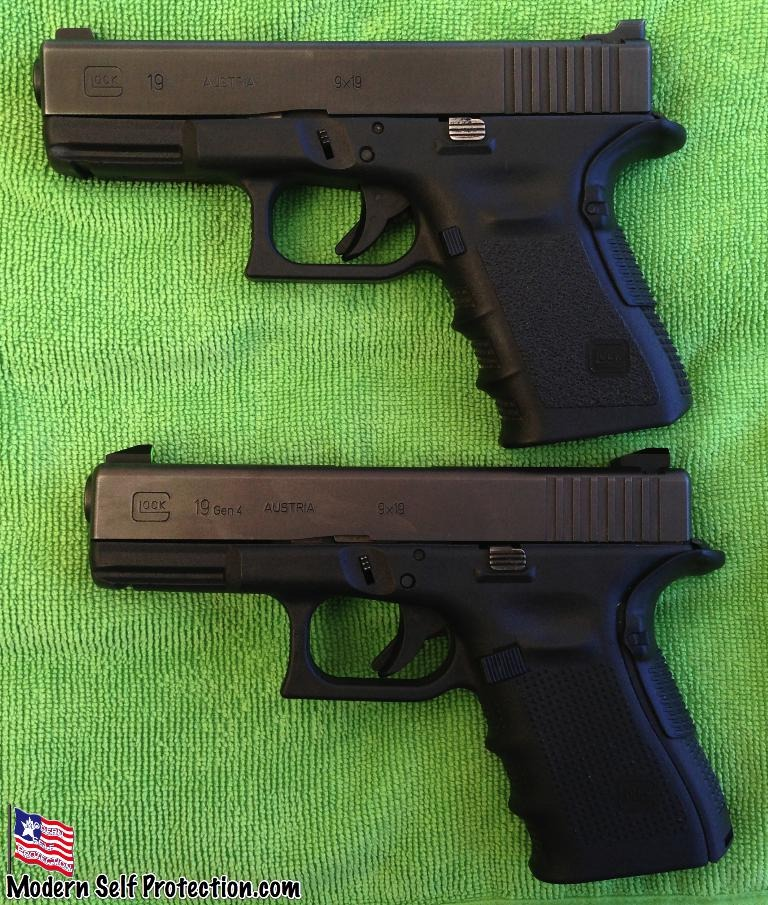gun: (58, 386, 731, 876), (41, 31, 706, 448)
